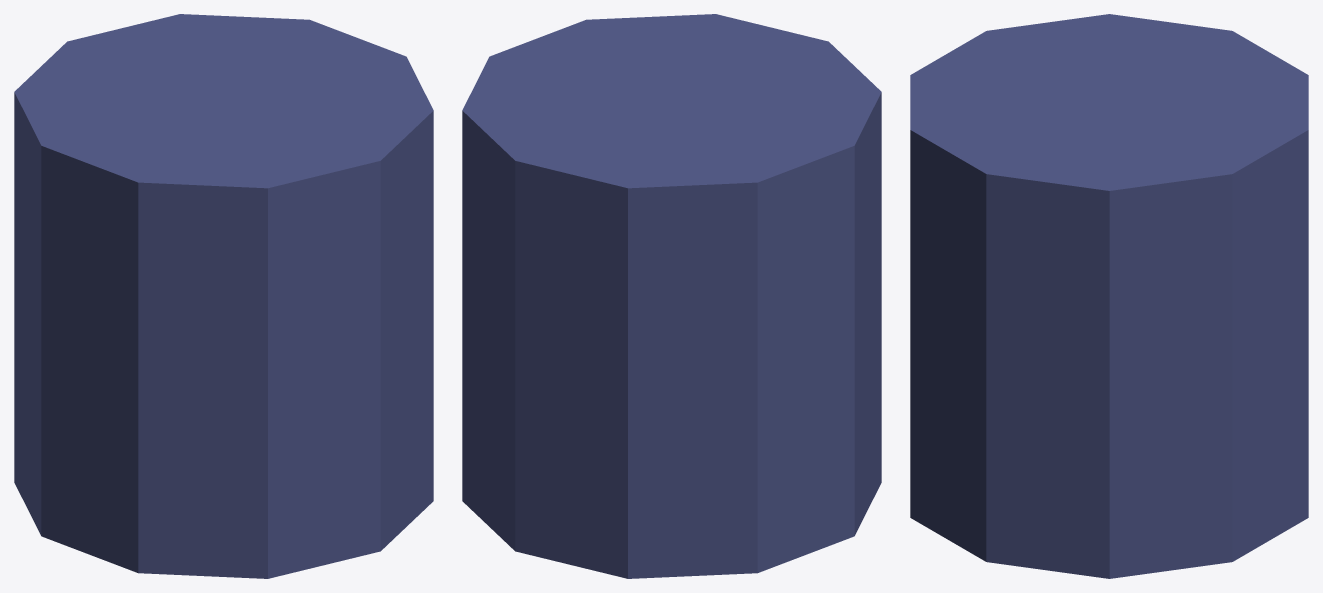
The model's file is PinGlow.fbx.
3 renders of one model, left to right at view 1: azimuth 30°, elevation 25°; view 2: azimuth 150°, elevation 25°; view 3: azimuth 270°, elevation 25°, orthographic.
Parts seen in each view (by area): view 1: polySurface64; view 2: polySurface64; view 3: polySurface64.
Part boxes in pixels (x1=…): polySurface64: x1=14, y1=14, x2=433, y2=578; polySurface64: x1=462, y1=14, x2=881, y2=578; polySurface64: x1=910, y1=14, x2=1308, y2=578.
Bounding box in the file's own units: 0.1658 × 0.1695 × 0.1577.
